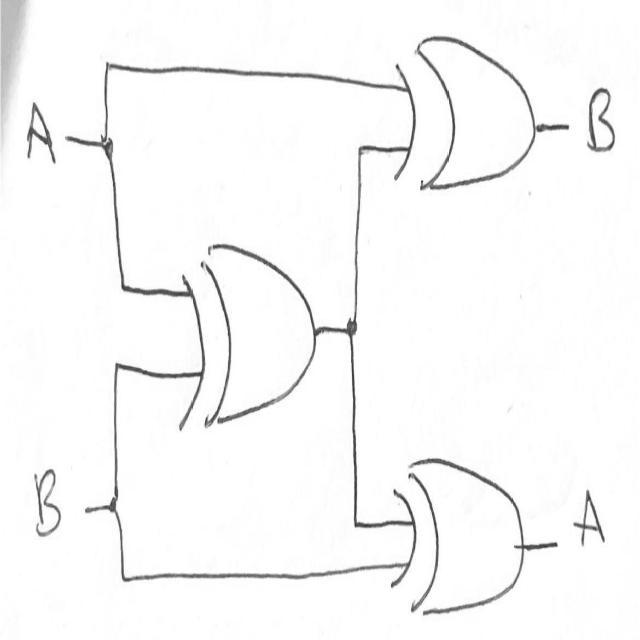XOR: (166, 211, 324, 447), (386, 11, 546, 232), (383, 413, 538, 628)
